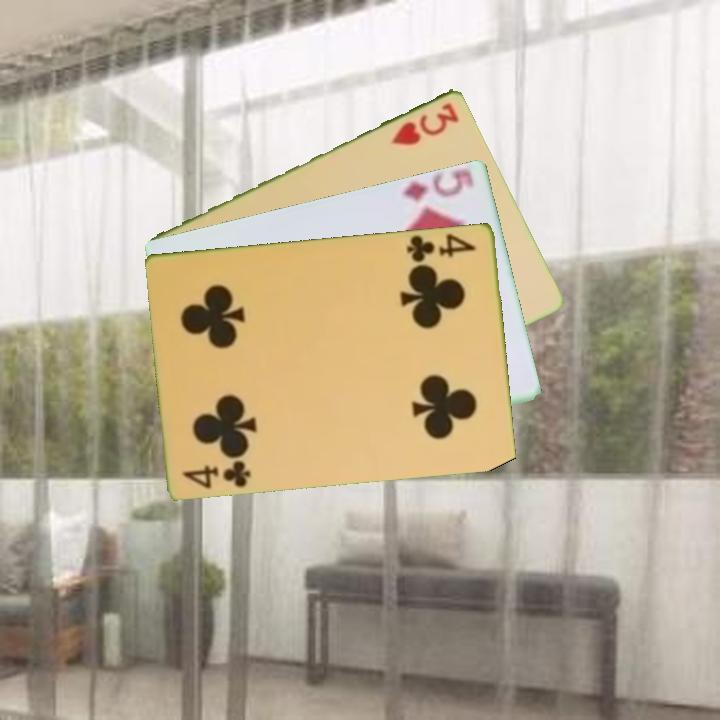3h: (388, 98, 462, 148)
4c: (404, 230, 479, 265), (179, 456, 254, 491)
5d: (398, 169, 475, 204)
